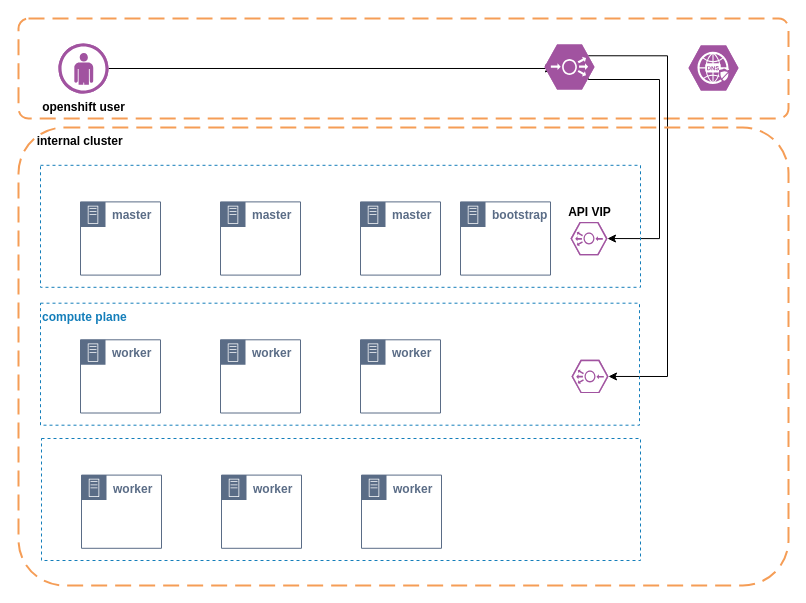
This 806x603 diagram has some shape labels left out. The box of each missing label's shape, as (x1, y1, x2, y2) in pixels:
control plane: (40, 164, 640, 287)
corporate network: (17, 17, 789, 119)
Ingress VIP: (570, 359, 608, 393)
LoadBalancer: (544, 44, 594, 90)
storage (optional): (40, 438, 640, 560)
